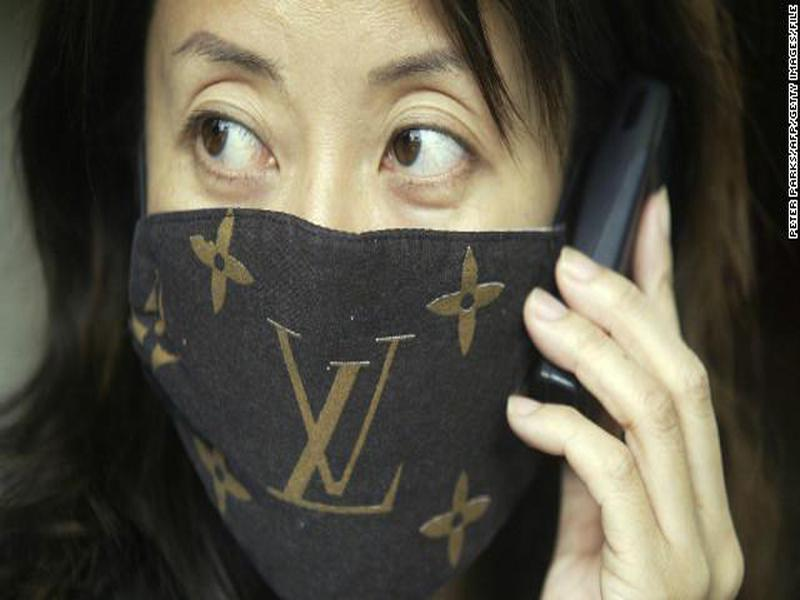with_mask: (118, 1, 627, 600)
